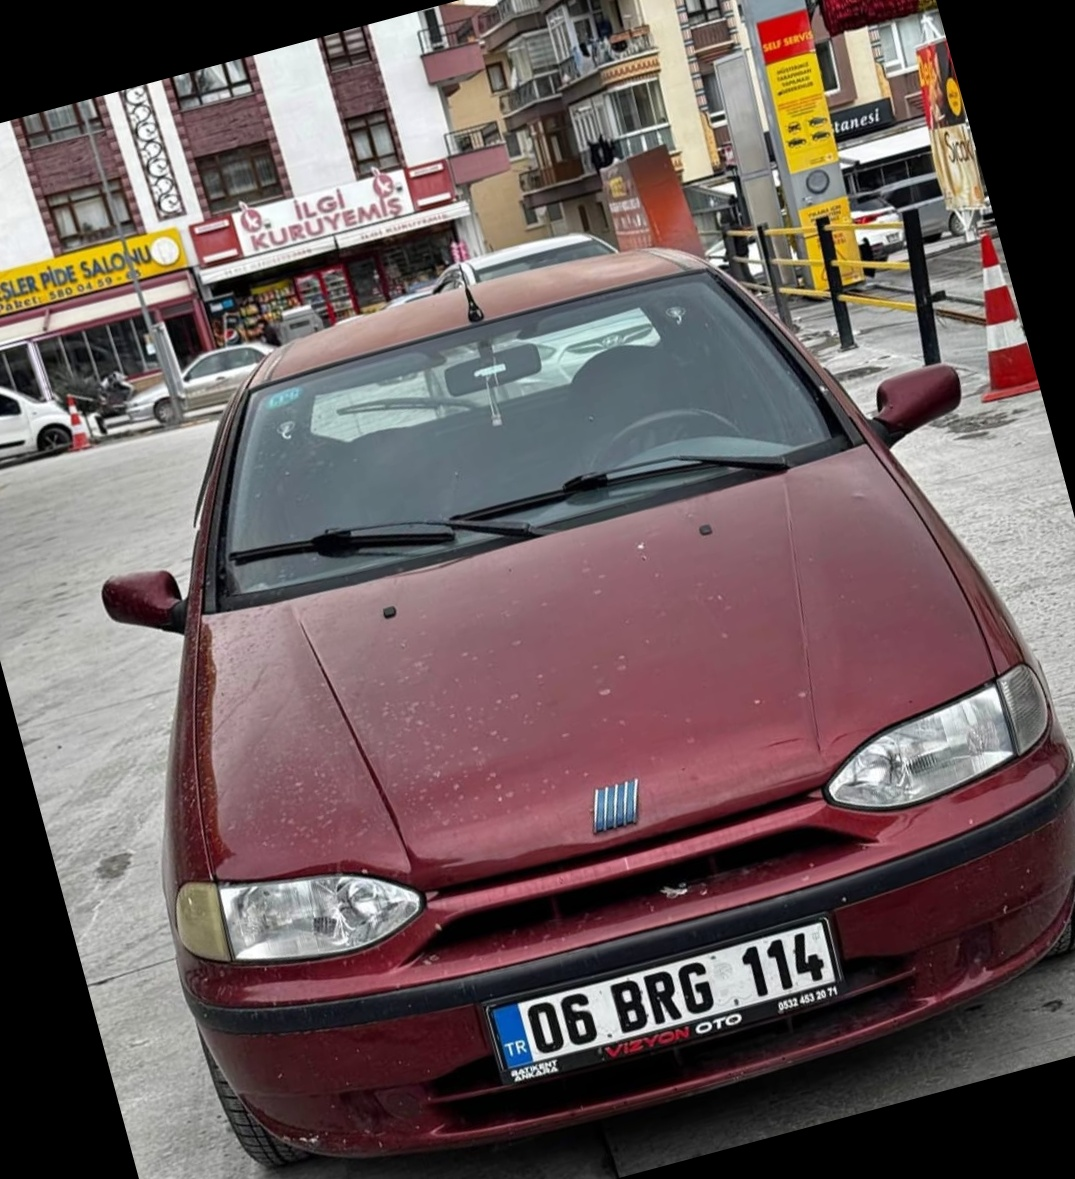plaka: (522, 921, 879, 1067)
